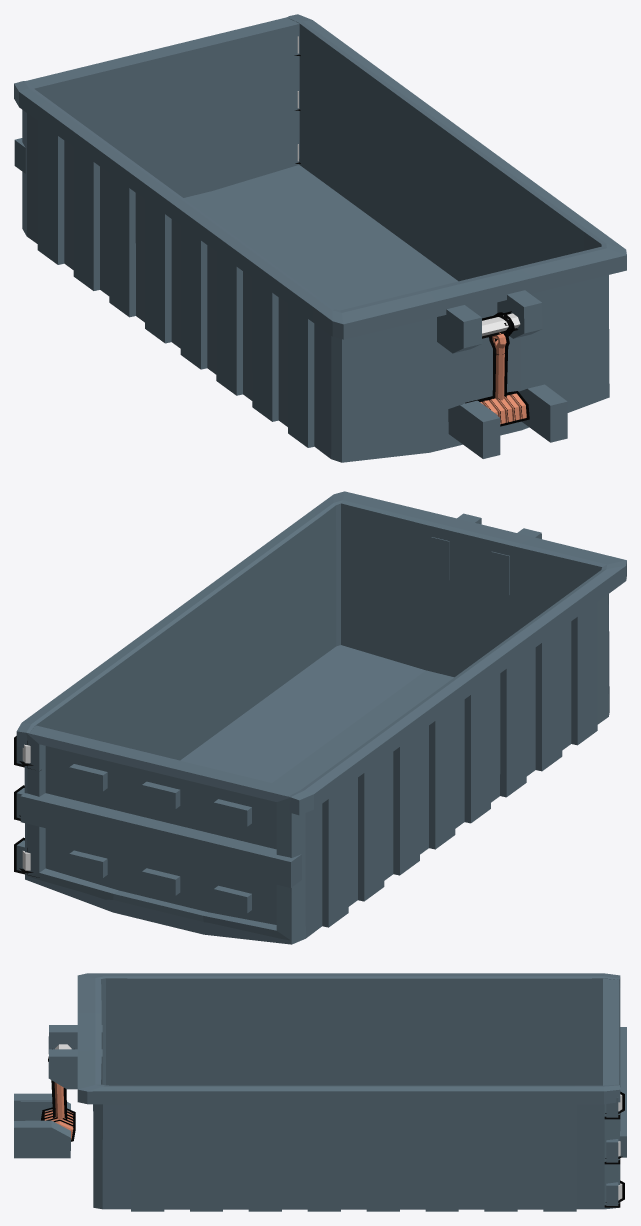
Rendered from open_box.glb.
3 views of the same model, one above another, from view 1: azimuth 30°, elevation 25°; view 2: azimuth 150°, elevation 25°; view 3: azimuth 270°, elevation 25° (orthographic). The views are drawn at different scales.
Parts seen in each view (by area): view 1: Cube.1198_Outline_0, Cube.241_Outline_0, Cube.1201_Outline_0, Cube.1201_Outline_0.001, Cube.1199_Outline_0, Cube.1200_Outline_0, Cube.1213_Material.002_0; view 2: Cube.1198_Outline_0, Cube.241_Outline_0, Cube.1189_Outline_0, Cube.1200_Outline_0, Cube.1199_Outline_0, Cube.1195_Outline_0, Cube.1191_Outline_0, Cube.1192_Outline_0, Cube.1193_Outline_0, Cube.1196_Outline_0, Cube.1194_Outline_0; view 3: Cube.1198_Outline_0, Cube.1201_Outline_0.001, Cube.241_Outline_0, Cube.1200_Outline_0, Cube.1189_Outline_0, Cube.1199_Outline_0, Cube.1201_MainBody_0, Cube.1201_Outline_0.
Boxes of the visible parts, x1,y1,x2,y2 form: Cube.1198_Outline_0: [14, 14, 626, 462]; Cube.241_Outline_0: [26, 17, 299, 197]; Cube.1201_Outline_0: [448, 401, 500, 458]; Cube.1201_Outline_0.001: [519, 384, 567, 442]; Cube.1199_Outline_0: [437, 305, 482, 353]; Cube.1200_Outline_0: [497, 290, 542, 338]; Cube.1213_Material.002_0: [492, 332, 506, 400]; Cube.1198_Outline_0: [16, 491, 626, 944]; Cube.241_Outline_0: [26, 725, 299, 940]; Cube.1189_Outline_0: [20, 793, 301, 887]; Cube.1200_Outline_0: [431, 513, 481, 580]; Cube.1199_Outline_0: [491, 528, 541, 595]; Cube.1195_Outline_0: [69, 764, 107, 791]; Cube.1191_Outline_0: [142, 868, 180, 895]; Cube.1192_Outline_0: [69, 850, 107, 877]; Cube.1193_Outline_0: [213, 885, 251, 913]; Cube.1196_Outline_0: [213, 799, 251, 826]; Cube.1194_Outline_0: [142, 781, 180, 808]; Cube.1198_Outline_0: [77, 973, 620, 1211]; Cube.1201_Outline_0.001: [14, 1120, 70, 1158]; Cube.241_Outline_0: [603, 978, 620, 1179]; Cube.1200_Outline_0: [48, 1049, 102, 1089]; Cube.1189_Outline_0: [619, 1027, 626, 1157]; Cube.1199_Outline_0: [48, 1025, 102, 1053]; Cube.1201_MainBody_0: [20, 1101, 69, 1120]; Cube.1201_Outline_0: [14, 1093, 70, 1120].
Bounding box in the file's own units: 2.97 × 1.54 × 6.51.
